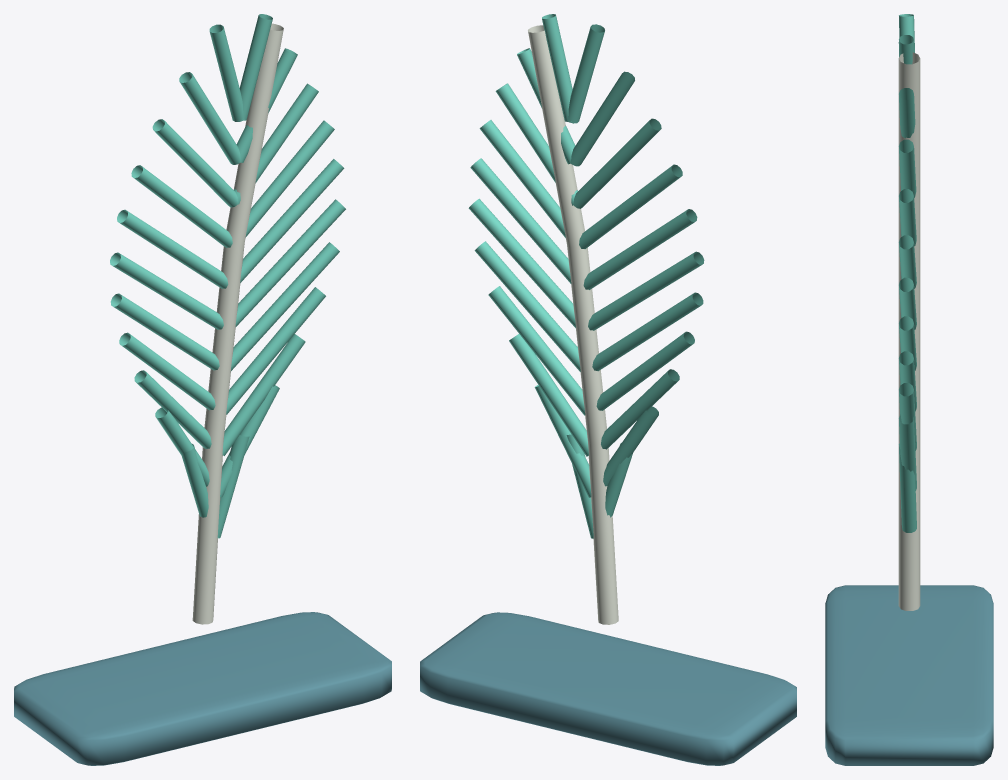
The model's file is buteyko.glb.
3 renders of one model, left to right at view 1: azimuth 30°, elevation 25°; view 2: azimuth 150°, elevation 25°; view 3: azimuth 270°, elevation 25°, orthographic.
Visible parts, largest first — view 1: rest, quill, barb_5_1, barb_4_1, barb_3_1, barb_6_1, barb_2_1, barb_5_-1, barb_7_1, barb_6_-1, barb_4_-1, barb_7_-1 (+12 smaller); view 2: rest, quill, barb_4_1, barb_5_1, barb_3_1, barb_6_1, barb_5_-1, barb_2_1, barb_6_-1, barb_4_-1, barb_7_1, barb_7_-1 (+12 smaller); view 3: rest, quill, barb_0_1, barb_1_1, barb_8_1, barb_7_1, barb_9_1, barb_6_1, barb_2_1, barb_5_1, barb_4_1, barb_3_1 (+2 smaller).
Boxes of the visible parts, x1,y1,x2,y2 form: rest: (14,612,391,765); quill: (192,23,283,624); barb_5_1: (235,199,345,327); barb_4_1: (230,242,339,371); barb_3_1: (226,287,325,414); barb_6_1: (240,159,344,283); barb_2_1: (222,334,305,455); barb_5_-1: (110,252,223,329); barb_7_1: (245,120,334,237); barb_6_-1: (117,209,228,288); barb_4_-1: (110,293,219,370); barb_7_-1: (131,165,232,247); rest: (420,612,796,765); quill: (528,25,618,624); barb_4_1: (474,241,580,371); barb_5_1: (468,198,575,328); barb_3_1: (488,286,585,415); barb_6_1: (470,158,571,283); barb_5_-1: (588,251,704,330); barb_2_1: (509,334,588,456); barb_6_-1: (583,209,697,289); barb_4_-1: (592,292,703,371); barb_7_1: (479,120,565,238); barb_7_-1: (579,164,682,248); rest: (825,585,993,765); quill: (898,52,920,610); barb_0_1: (898,443,916,532); barb_1_1: (898,414,916,490); barb_8_1: (898,139,916,197); barb_7_1: (898,189,916,245); barb_9_1: (898,88,915,138); barb_6_1: (898,235,916,288); barb_2_1: (898,383,916,450); barb_5_1: (898,277,916,329); barb_4_1: (898,316,916,370); barb_3_1: (898,351,916,411).
Size of the model in its own units: 1.2 by 2.47 by 0.55.
